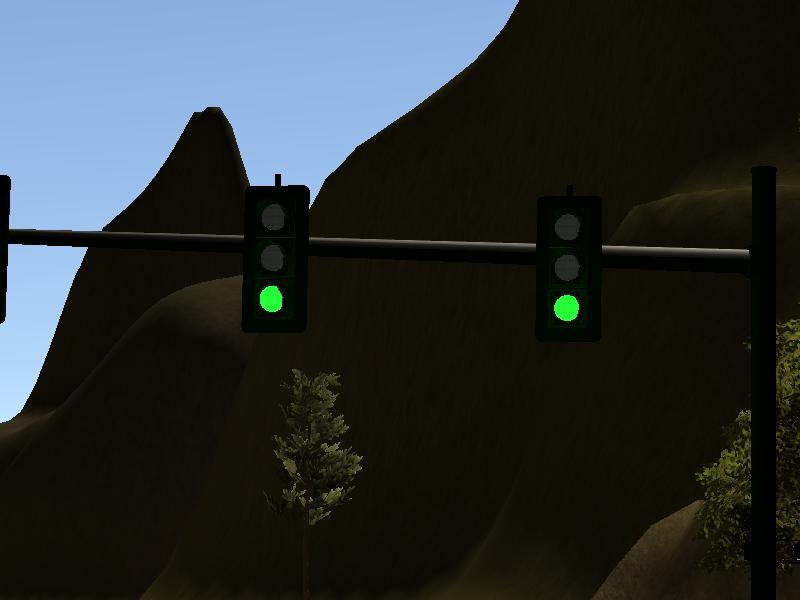GREEN: (534, 189, 602, 342), (243, 185, 310, 332)
